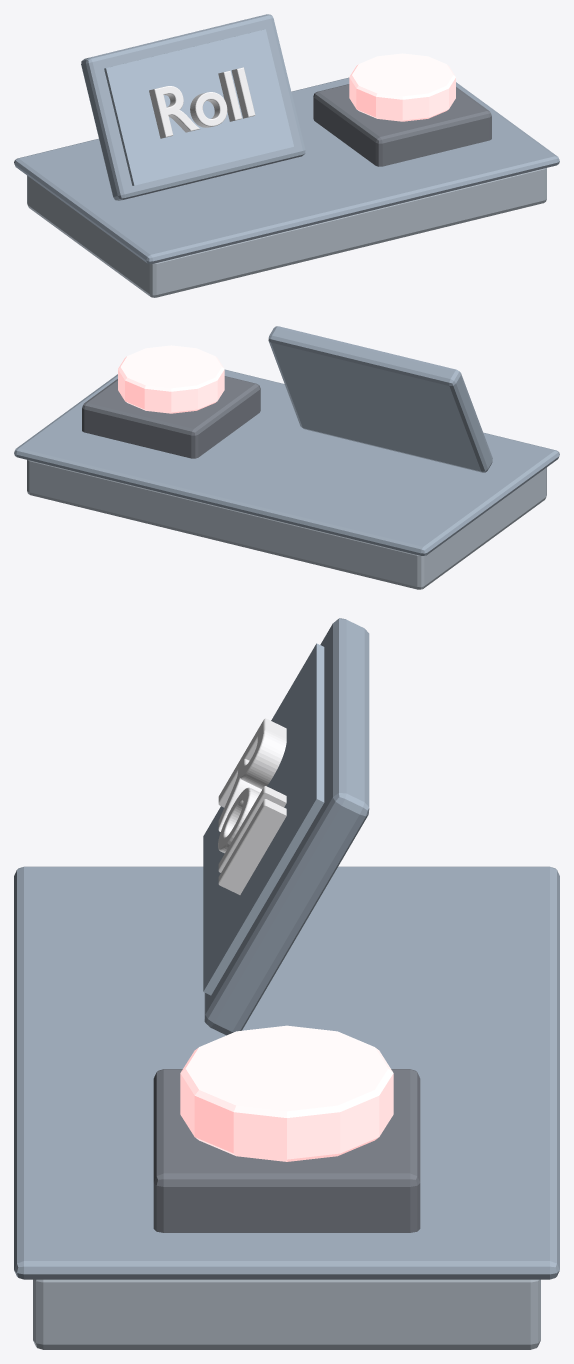
The model's file is RollButtonSystem.fbx.
3 renders of one model, top to bottom at view 1: azimuth 30°, elevation 25°; view 2: azimuth 150°, elevation 25°; view 3: azimuth 270°, elevation 25°, orthographic. The views are drawn at different scales.
Visible parts, largest first — view 1: BaseLip, Base, SignFace, SignFrame, ButtonHousing, RollButton, RollText; view 2: BaseLip, SignFrame, Base, ButtonHousing, RollButton; view 3: BaseLip, Base, ButtonHousing, RollButton, SignFrame, SignFace, RollText.
Part boxes in pixels (left/top/right/bottom): BaseLip: left=14, top=77, right=559, bottom=263; Base: left=27, top=168, right=546, bottom=297; SignFace: left=104, top=29, right=293, bottom=185; SignFrame: left=81, top=14, right=305, bottom=200; ButtonHousing: left=313, top=84, right=491, bottom=166; RollButton: left=349, top=53, right=455, bottom=121; RollText: left=149, top=67, right=255, bottom=138; BaseLip: left=14, top=369, right=559, bottom=555; SignFrame: left=268, top=326, right=492, bottom=472; Base: left=27, top=460, right=546, bottom=589; ButtonHousing: left=82, top=376, right=260, bottom=458; RollButton: left=118, top=345, right=224, bottom=413; BaseLip: left=14, top=866, right=559, bottom=1279; Base: left=33, top=1279, right=540, bottom=1349; ButtonHousing: left=153, top=1069, right=420, bottom=1232; RollButton: left=180, top=1025, right=393, bottom=1161; SignFrame: left=204, top=618, right=369, bottom=1035; SignFace: left=203, top=643, right=324, bottom=995; RollText: left=218, top=718, right=286, bottom=894.
Bounding box in the file's own units: 3.75 × 1.58 × 2.15.
